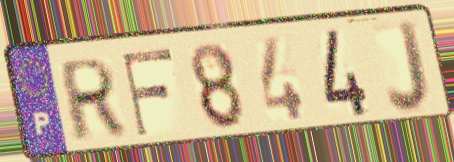4: (321, 27, 371, 120), (260, 34, 307, 125)
8: (188, 41, 245, 131)
F: (119, 46, 176, 140)
J: (383, 17, 433, 116)
R: (58, 54, 127, 145)
